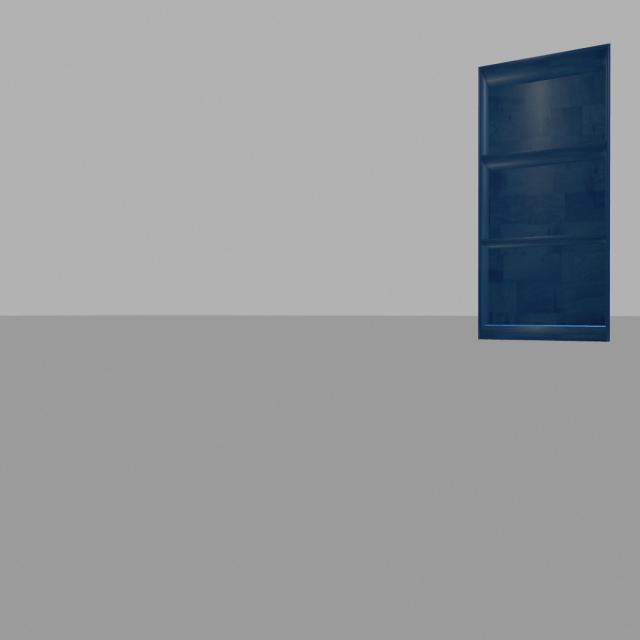shelf: (471, 26, 621, 356)
